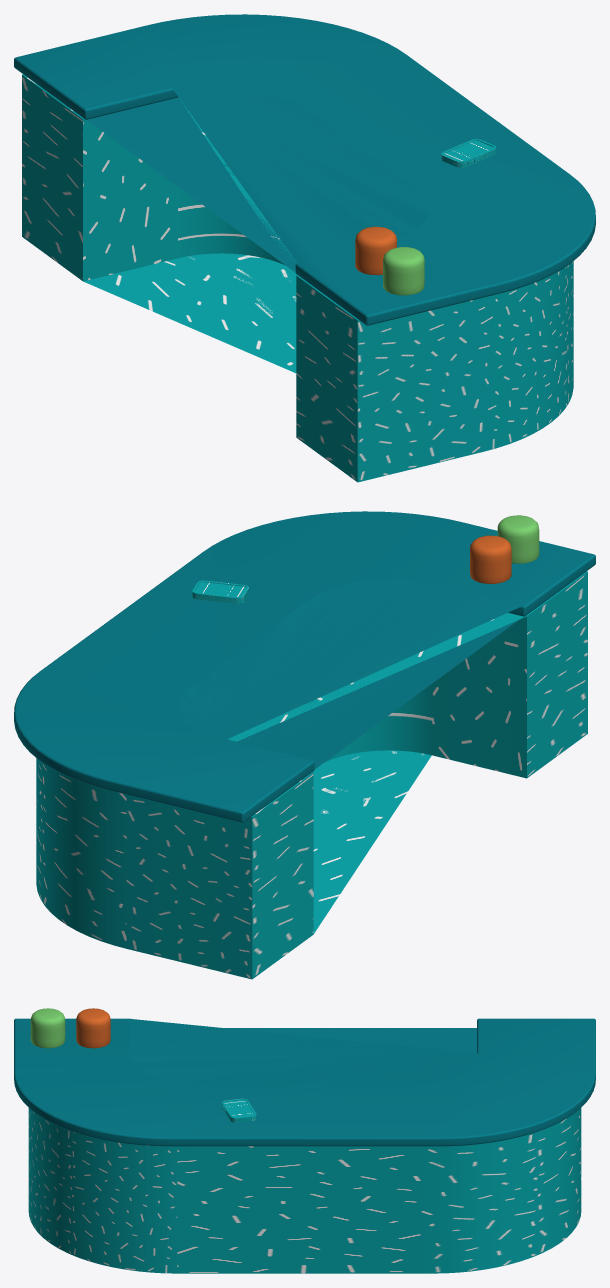
The model's file is Bar Table.fbx.
3 renders of one model, top to bottom at view 1: azimuth 30°, elevation 25°; view 2: azimuth 150°, elevation 25°; view 3: azimuth 270°, elevation 25°, orthographic. The views are drawn at different scales.
Parts seen in each view (by area): view 1: Table, Cylinder_5, Cylinder_1_3_2, Phone; view 2: Table, Cylinder_1_3_2, Cylinder_5, Phone; view 3: Table, Cylinder_5, Cylinder_1_3_2, Phone.
Part boxes in pixels (box(x1,y1,x2,y2)): Table: box(14, 14, 595, 482); Cylinder_5: box(383, 247, 424, 295); Cylinder_1_3_2: box(355, 226, 396, 275); Phone: box(441, 139, 496, 167); Table: box(14, 511, 595, 979); Cylinder_1_3_2: box(470, 535, 511, 583); Cylinder_5: box(497, 515, 539, 563); Phone: box(192, 580, 249, 603); Table: box(14, 1018, 595, 1273); Cylinder_5: box(30, 1008, 65, 1048); Cylinder_1_3_2: box(76, 1008, 110, 1048); Phone: box(222, 1098, 256, 1122).
Bounding box in the file's own units: 143 × 94.6 × 294.
Materials: 4 (1 with a texture image).
